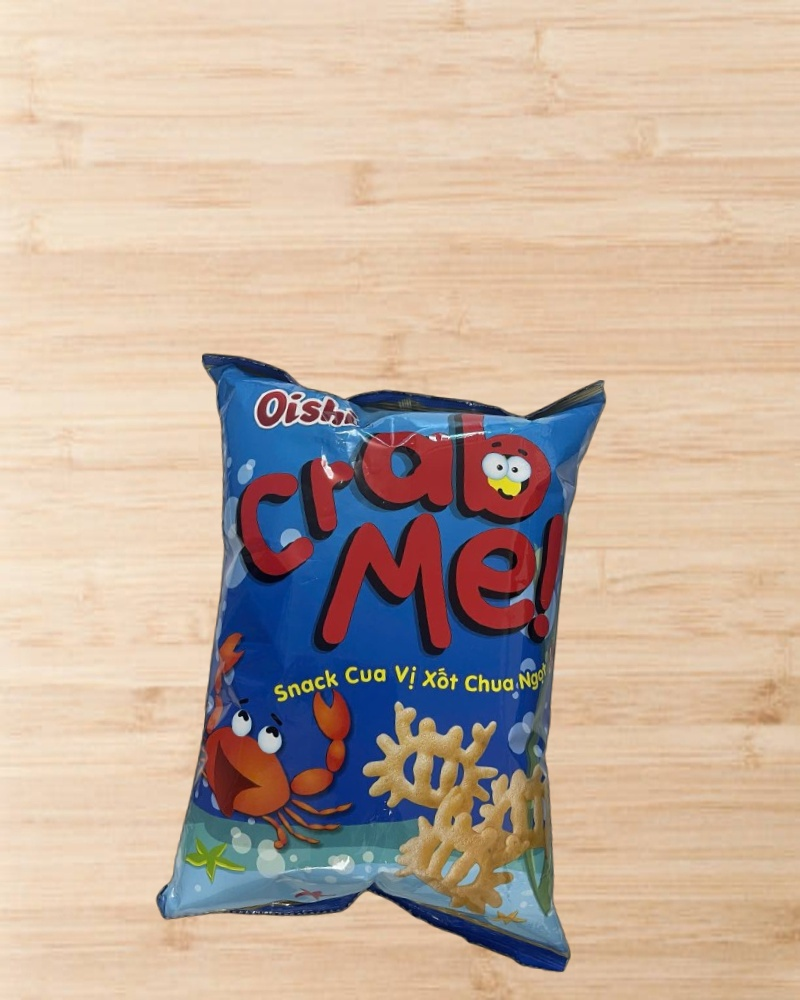Snack chay: (152, 346, 620, 975)
